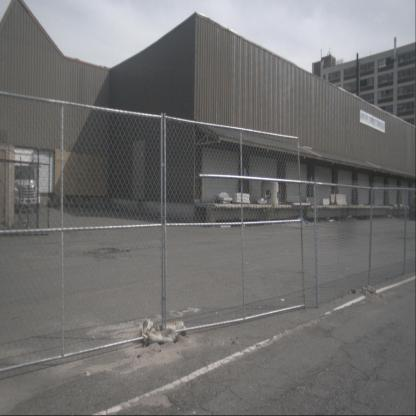vehicle-truck: (8, 147, 40, 214)
